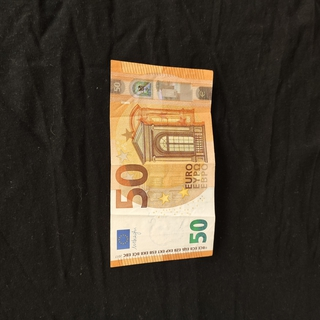50EUROFront: (109, 58, 216, 268)
